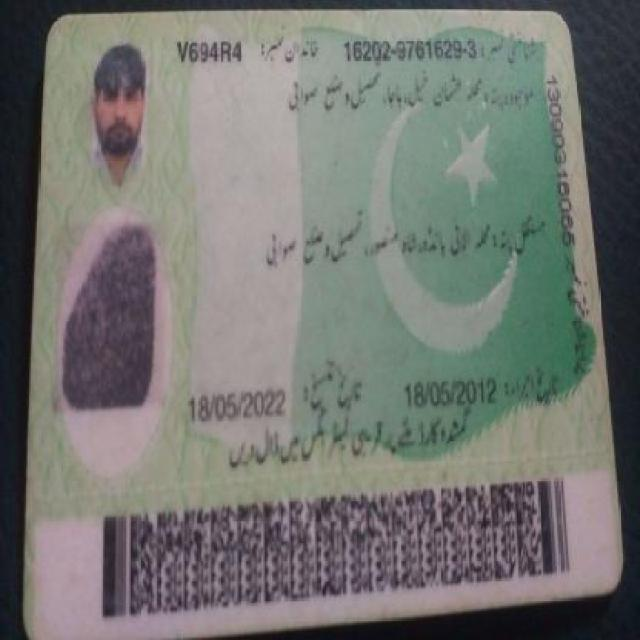Back: (26, 9, 625, 625)
